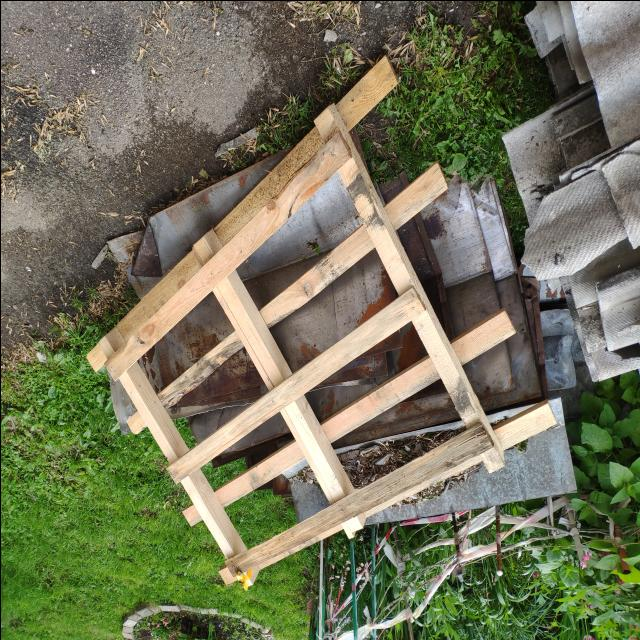entulho: (320, 282, 568, 496), (86, 243, 296, 485), (204, 105, 390, 321), (384, 162, 506, 338), (516, 136, 640, 292), (492, 82, 612, 212), (567, 3, 640, 159), (594, 258, 640, 355), (520, 2, 582, 60), (88, 229, 144, 282)
